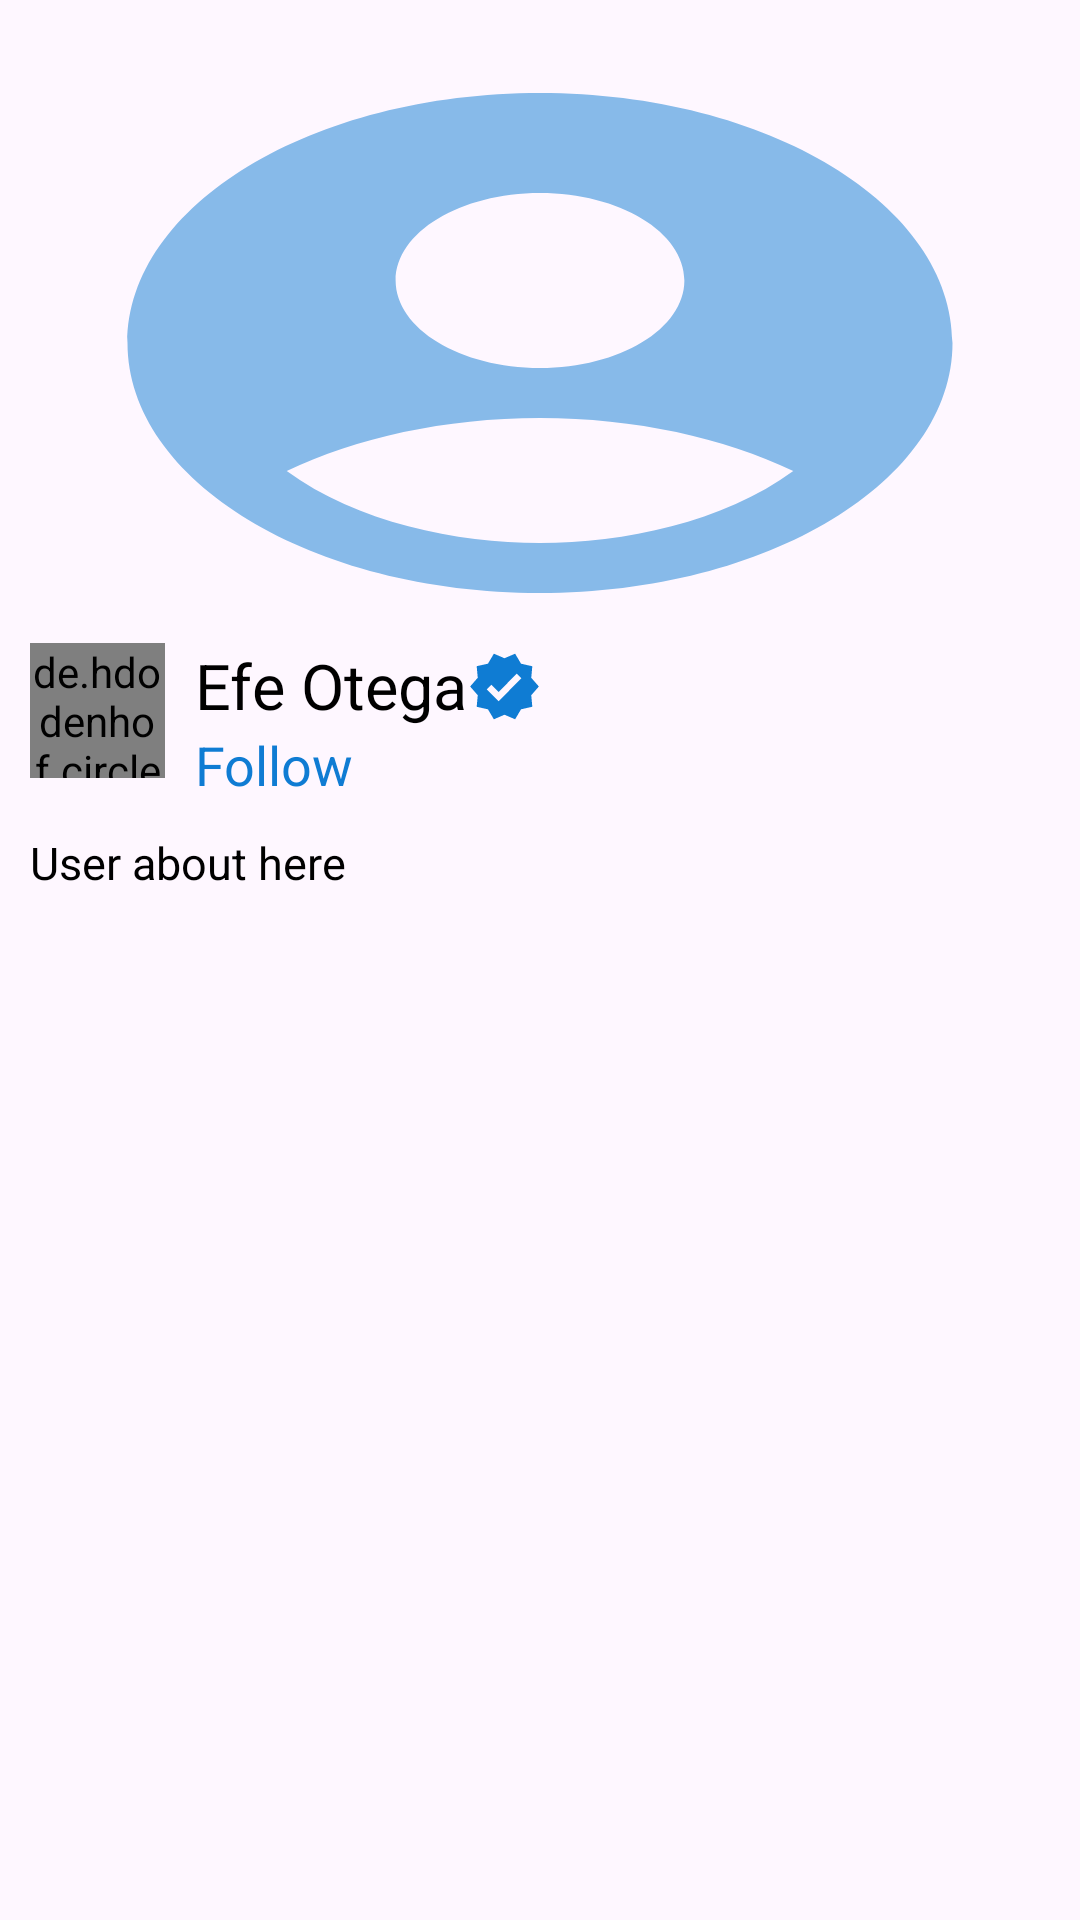

Icon bounding boxes for this 1080px×1920px phone screenshot, format (x1, y1, x2, y2):
verifiedicon: (470, 654, 539, 719)
